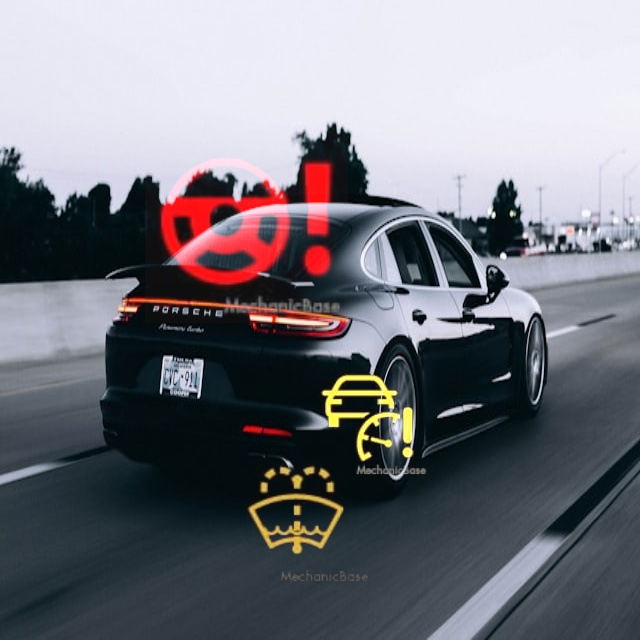symbol: (145, 120, 348, 323), (220, 435, 374, 589), (307, 358, 428, 479)
